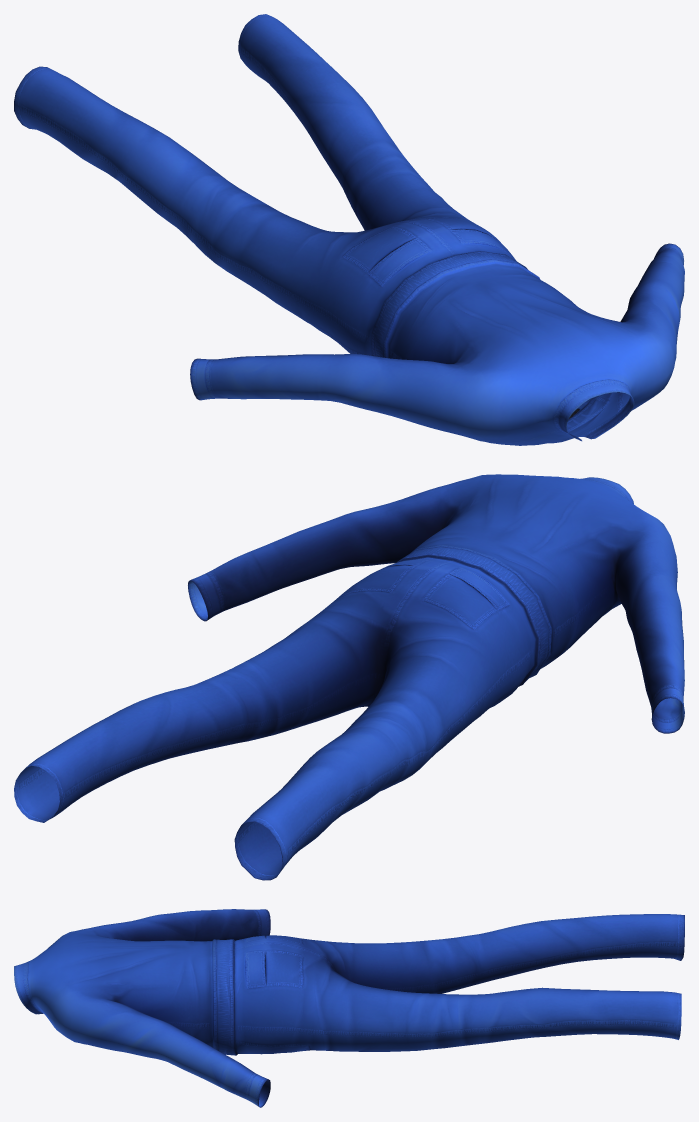
File: garment.obj
The picture shows the model from 3 angles, top to bottom: view 1: azimuth 30°, elevation 25°; view 2: azimuth 150°, elevation 25°; view 3: azimuth 270°, elevation 25°; orthographic projection. The views are drawn at different scales.
Parts seen in each view (by area): view 1: Suit_Jumpsuit_002; view 2: Suit_Jumpsuit_002; view 3: Suit_Jumpsuit_002.
Boxes of the visible parts, x1,y1,x2,y2 form: Suit_Jumpsuit_002: [14, 14, 684, 445]; Suit_Jumpsuit_002: [14, 474, 684, 880]; Suit_Jumpsuit_002: [14, 909, 684, 1107].
Bounding box in the file's own units: 1.42 × 0.3909 × 2.27.
